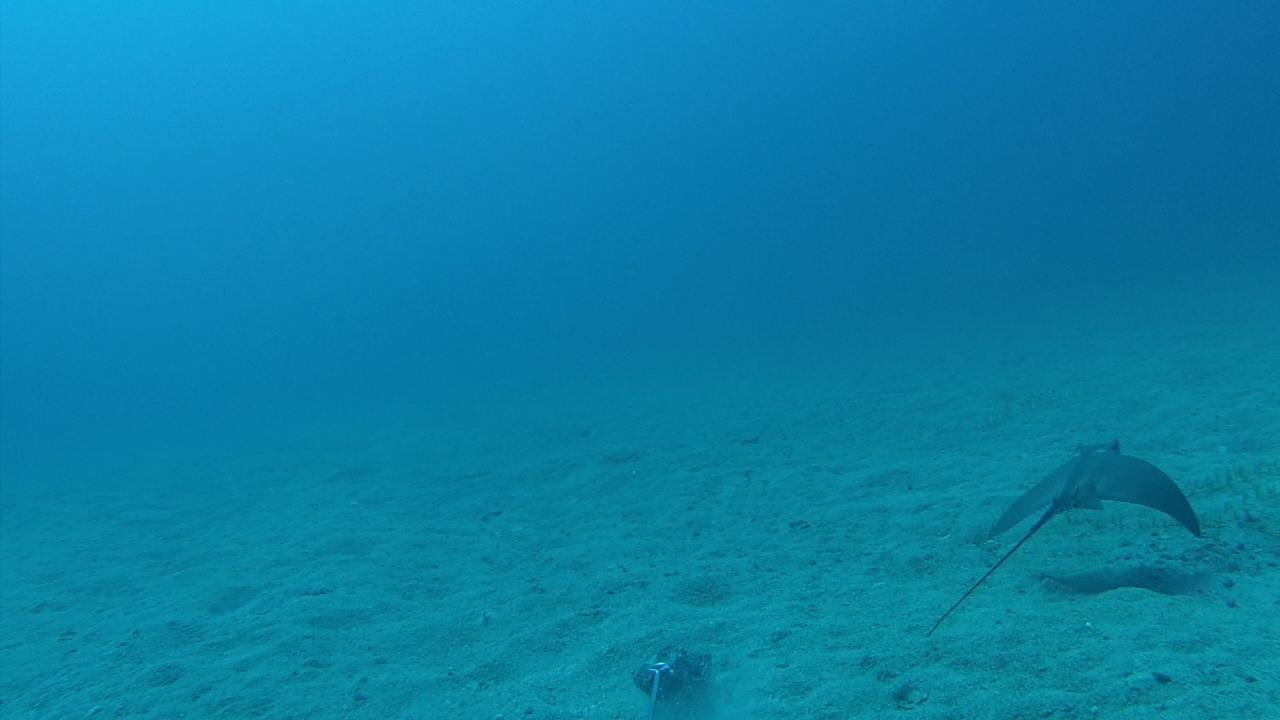dasyatis: (922, 439, 1200, 648)
